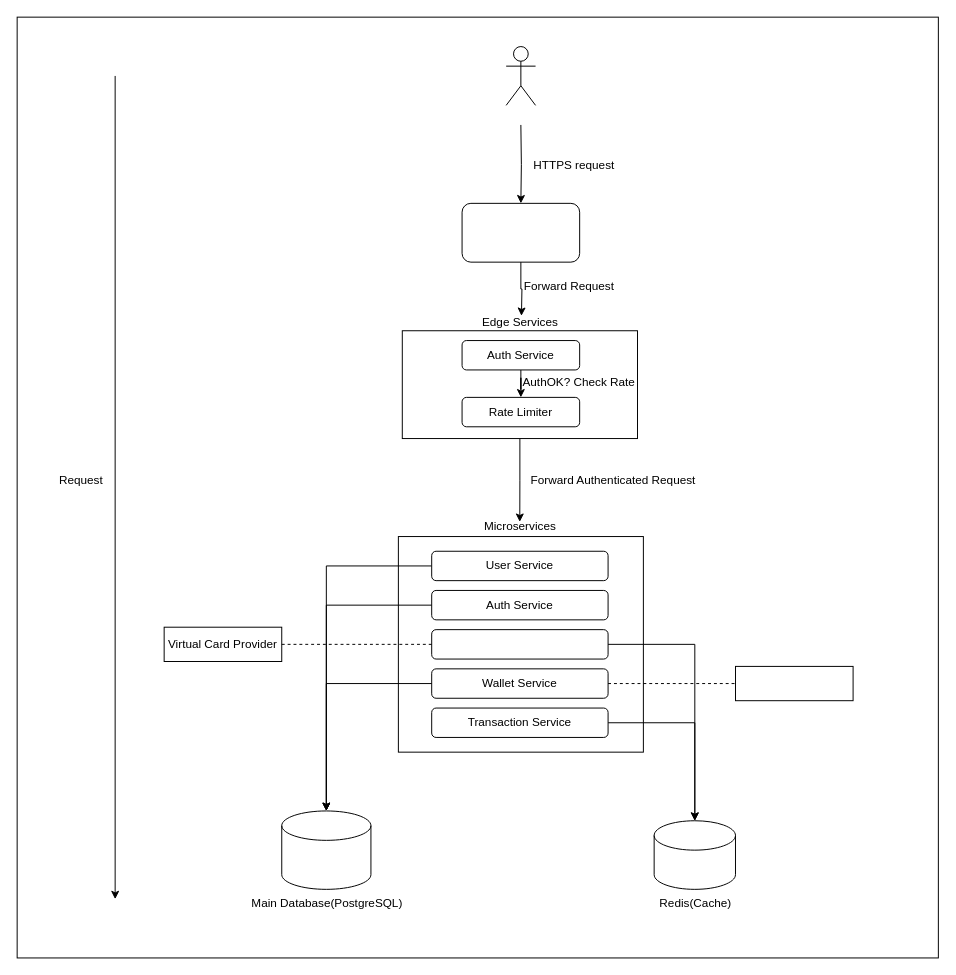
Some shapes in this 956 by 975 pixel diagram are drawn without their labels. Here are the shapes that lost their labels. From the top down, the box of each, then its label:
(505, 46, 536, 105): User(Mobile/Web App)
(461, 202, 580, 262): API Gateway
(431, 629, 608, 659): Card Service
(735, 665, 853, 701): Wallet/Payment Provider
